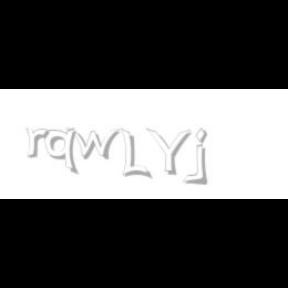L: (121, 128, 149, 180)
Y: (145, 128, 191, 176)
j: (192, 128, 222, 186)
q: (44, 128, 80, 176)
r: (25, 128, 52, 158)
w: (66, 128, 124, 160)
